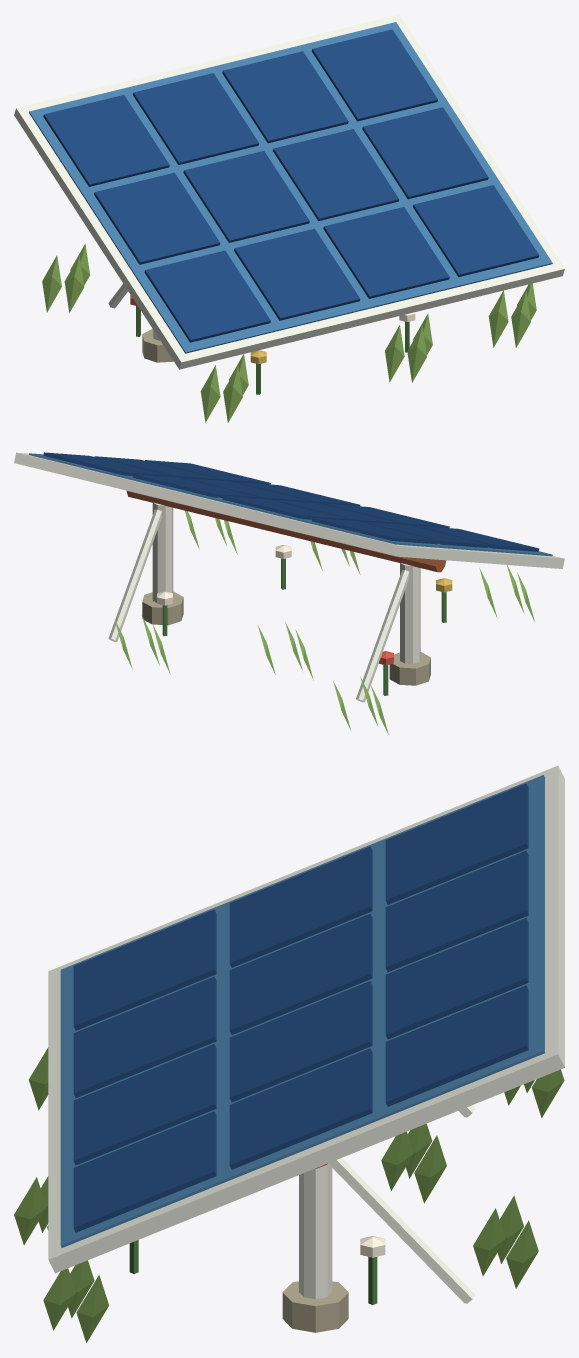
The model's file is solar_panel.glb.
3 views of the same model, one above another, from view 1: azimuth 30°, elevation 25°; view 2: azimuth 150°, elevation 25°; view 3: azimuth 270°, elevation 25° (orthographic). The views are drawn at different scales.
Parts seen in each view (by area): view 1: Solar_cell_backing, Solar_ceramic_frame, Solar_cell.001, Solar_cell.003, Solar_cell.010, Solar_cell, Solar_cell.006, Solar_cell.005, Solar_cell.008, Solar_cell.002, Solar_cell.004, Solar_cell.009 (+11 smaller); view 2: Solar_ceramic_frame, Solar_copper_rail, Solar_ceramic_post, Solar_cell_backing, Solar_ceramic_post.001, Solar_post_brace.001, Solar_post_brace, Solar_cell.002, Solar_cell.005, Solar_cell.011, Solar_cell.008, Solar_post_foot (+9 smaller); view 3: Solar_cell_backing, Solar_ceramic_frame, Solar_cell, Solar_cell.004, Solar_cell.006, Solar_cell.010, Solar_cell.005, Solar_cell.007, Solar_cell.008, Solar_cell.011, Solar_cell.001, Solar_cell.002 (+17 smaller).
Part boxes in pixels (bbox=[...]): Solar_cell_backing: bbox=[29, 22, 552, 353]; Solar_ceramic_frame: bbox=[14, 14, 564, 369]; Solar_cell.001: bbox=[94, 172, 220, 264]; Solar_cell.003: bbox=[234, 228, 360, 320]; Solar_cell.010: bbox=[362, 107, 488, 199]; Solar_cell: bbox=[144, 250, 270, 342]; Solar_cell.006: bbox=[323, 207, 449, 298]; Solar_cell.005: bbox=[133, 73, 259, 164]; Solar_cell.008: bbox=[222, 51, 348, 143]; Solar_cell.002: bbox=[43, 95, 169, 186]; Solar_cell.004: bbox=[183, 151, 309, 242]; Solar_cell.009: bbox=[413, 185, 539, 276]; Solar_ceramic_frame: bbox=[14, 452, 564, 568]; Solar_copper_rail: bbox=[126, 491, 446, 572]; Solar_ceramic_post: bbox=[400, 563, 420, 663]; Solar_cell_backing: bbox=[29, 453, 552, 556]; Solar_ceramic_post.001: bbox=[152, 502, 173, 602]; Solar_post_brace.001: bbox=[108, 509, 161, 641]; Solar_post_brace: bbox=[356, 570, 409, 702]; Solar_cell.002: bbox=[311, 518, 437, 544]; Solar_cell.005: bbox=[222, 496, 348, 520]; Solar_cell.011: bbox=[43, 452, 169, 476]; Solar_cell.008: bbox=[133, 474, 259, 498]; Solar_post_foot: bbox=[389, 652, 430, 685]; Solar_cell_backing: bbox=[60, 775, 544, 1247]; Solar_ceramic_frame: bbox=[48, 765, 564, 1273]; Solar_cell: bbox=[73, 909, 216, 1030]; Solar_cell.004: bbox=[229, 913, 372, 1034]; Solar_cell.006: bbox=[73, 1044, 216, 1165]; Solar_cell.010: bbox=[229, 1048, 372, 1169]; Solar_cell.005: bbox=[385, 850, 528, 971]; Solar_cell.007: bbox=[229, 981, 372, 1102]; Solar_cell.008: bbox=[385, 918, 528, 1039]; Solar_cell.011: bbox=[385, 985, 528, 1106]; Solar_cell.001: bbox=[229, 846, 372, 967]; Solar_cell.002: bbox=[385, 783, 528, 904].
Bounding box in the file's own units: 1.86 × 0.9497 × 1.5.
